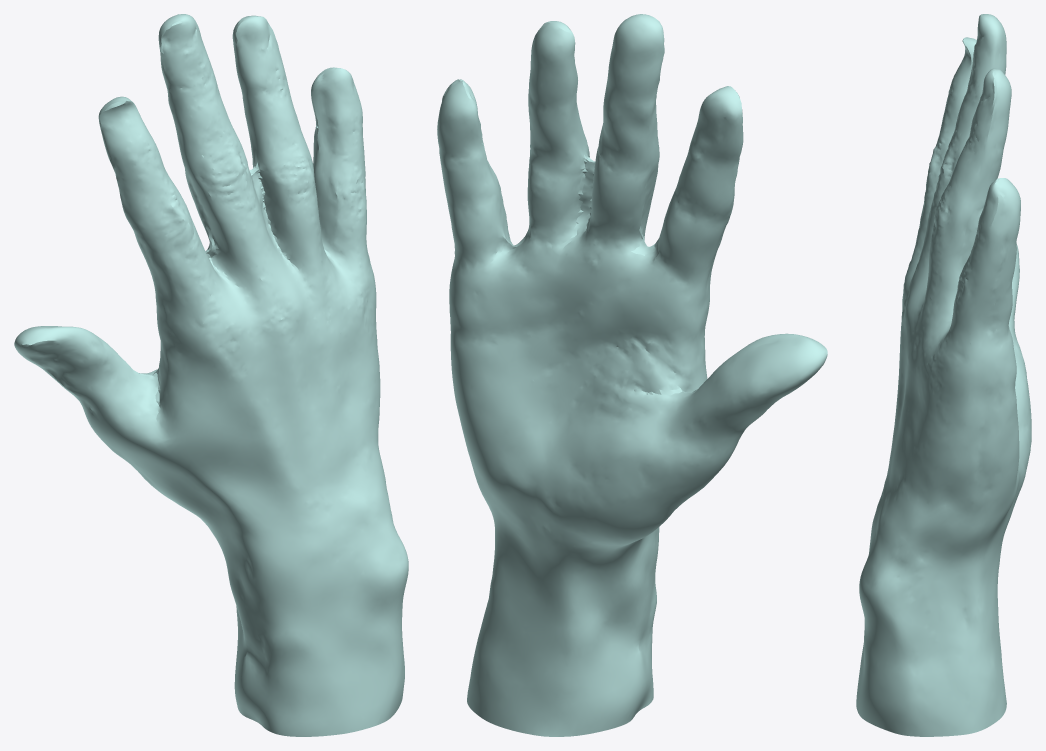
File: hand.gltf
The picture shows the model from 3 angles, left to right: view 1: azimuth 30°, elevation 25°; view 2: azimuth 150°, elevation 25°; view 3: azimuth 270°, elevation 25°; orthographic projection. The views are drawn at different scales.
Parts seen in each view (by area): view 1: Part 3; view 2: Part 3; view 3: Part 3.
Boxes of the visible parts, x1,y1,x2,y2 form: Part 3: (14, 14, 408, 736); Part 3: (437, 14, 827, 736); Part 3: (856, 14, 1031, 736).
Bounding box in the file's own units: 0.1395 × 0.2621 × 0.0652.
